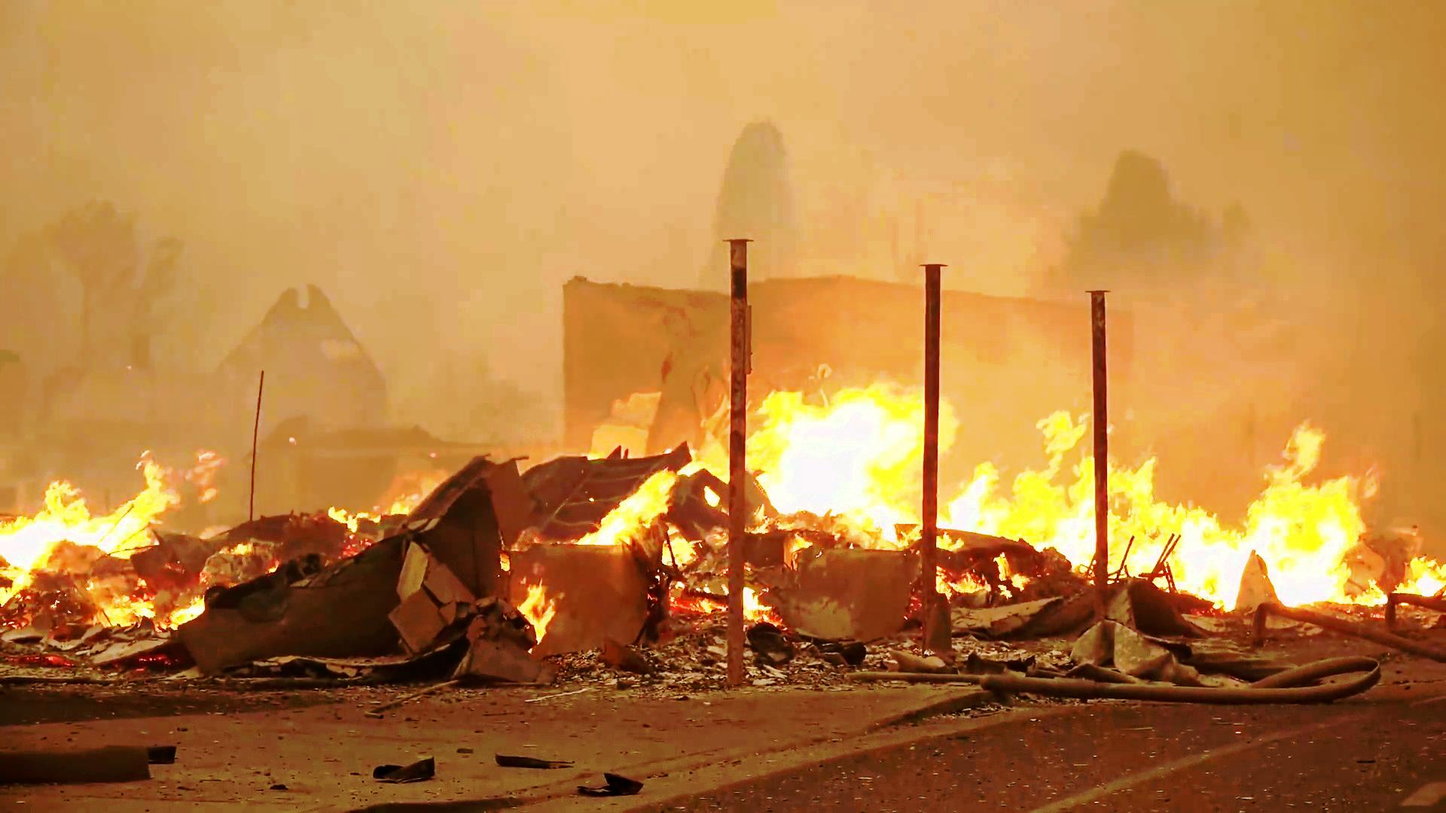fire: (1130, 435, 1386, 619), (682, 381, 966, 536), (0, 428, 198, 589), (978, 413, 1138, 556)
